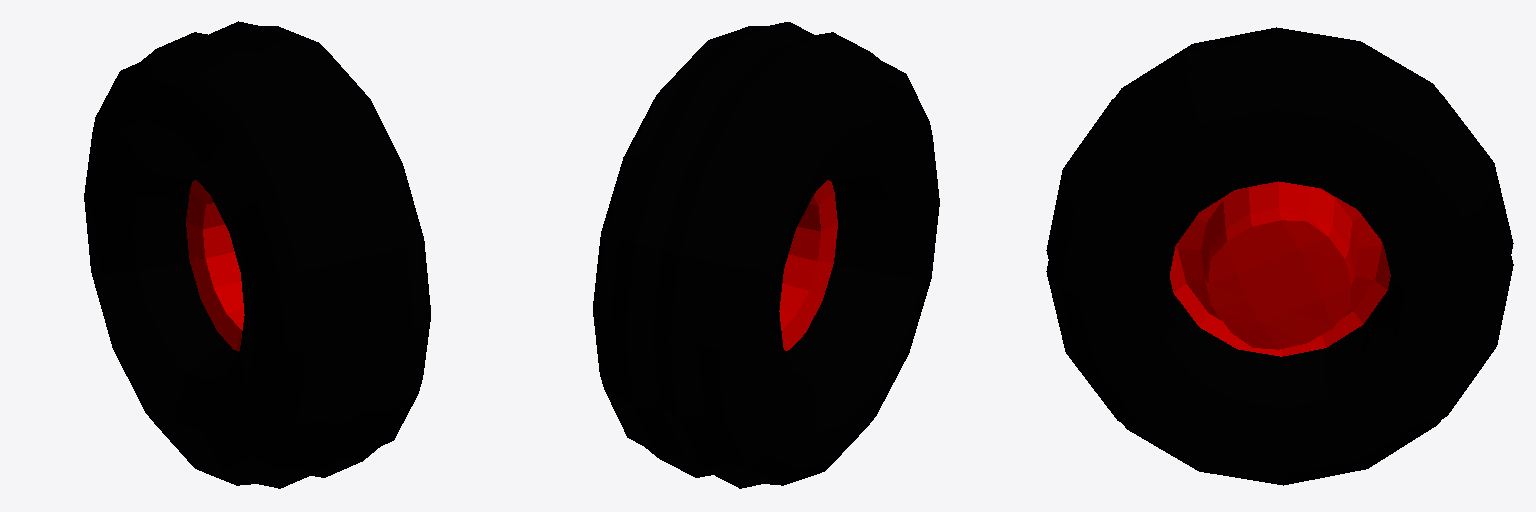
Rendered from volvo-front-tire.obj.
3 views of the same model, side by side, from view 1: azimuth 30°, elevation 25°; view 2: azimuth 150°, elevation 25°; view 3: azimuth 270°, elevation 25° (orthographic).
Visible parts, largest first — view 1: Front_tire_L_Circle.001; view 2: Front_tire_L_Circle.001; view 3: Front_tire_L_Circle.001.
Part boxes in pixels (bbox=[...]): Front_tire_L_Circle.001: bbox=[84, 21, 430, 488]; Front_tire_L_Circle.001: bbox=[593, 22, 939, 488]; Front_tire_L_Circle.001: bbox=[1046, 27, 1513, 485].
Bounding box in the file's own units: 0.359 × 0.8843 × 0.8843.